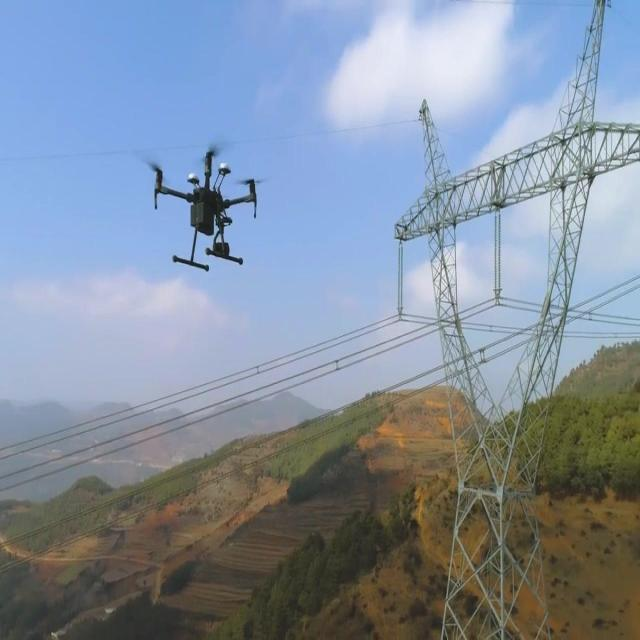drone: (144, 138, 264, 274)
